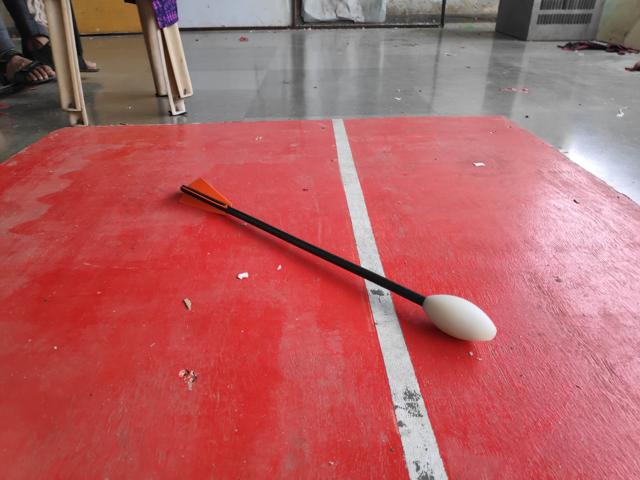Head: (419, 294, 500, 345)
